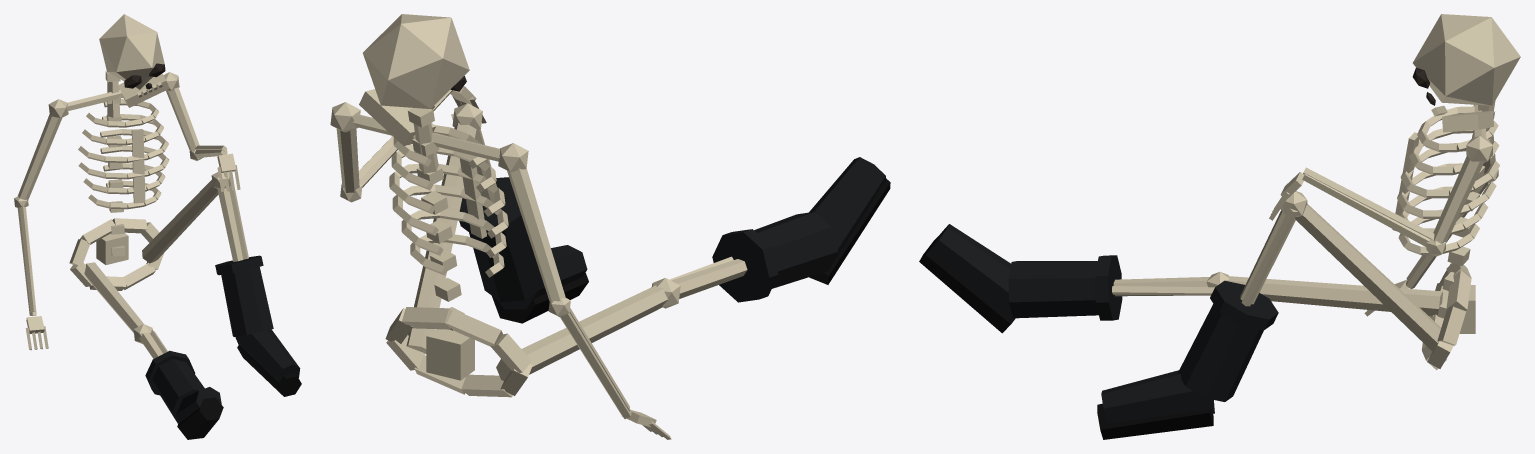
File: Skeleton_Sitting.fbx
3 views of the same model, side by side, from view 1: azimuth 30°, elevation 25°; view 2: azimuth 150°, elevation 25°; view 3: azimuth 270°, elevation 25° (orthographic). The views are drawn at different scales.
Visible parts, largest first — view 1: Skeleton_Sitting; view 2: Skeleton_Sitting; view 3: Skeleton_Sitting.
Part boxes in pixels (x1,y1,x2,y2): Skeleton_Sitting: (14,14,301,439); Skeleton_Sitting: (330,14,890,439); Skeleton_Sitting: (919,14,1520,439).
Size of the model in its own units: 0.6014 by 0.8394 by 1.14.
